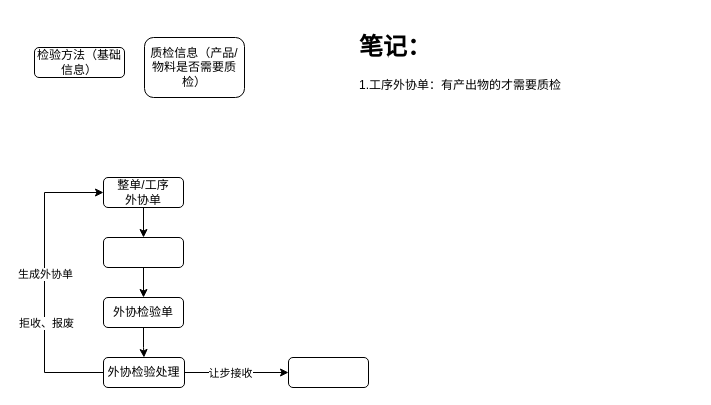
Image size: 711x405. Some labels were removed from this diagram. Here are the shapes that lost their labels. From the top down, the box of each, then its label:
(102, 236, 184, 268): 检验申请单
(288, 356, 368, 388): 成品入库
